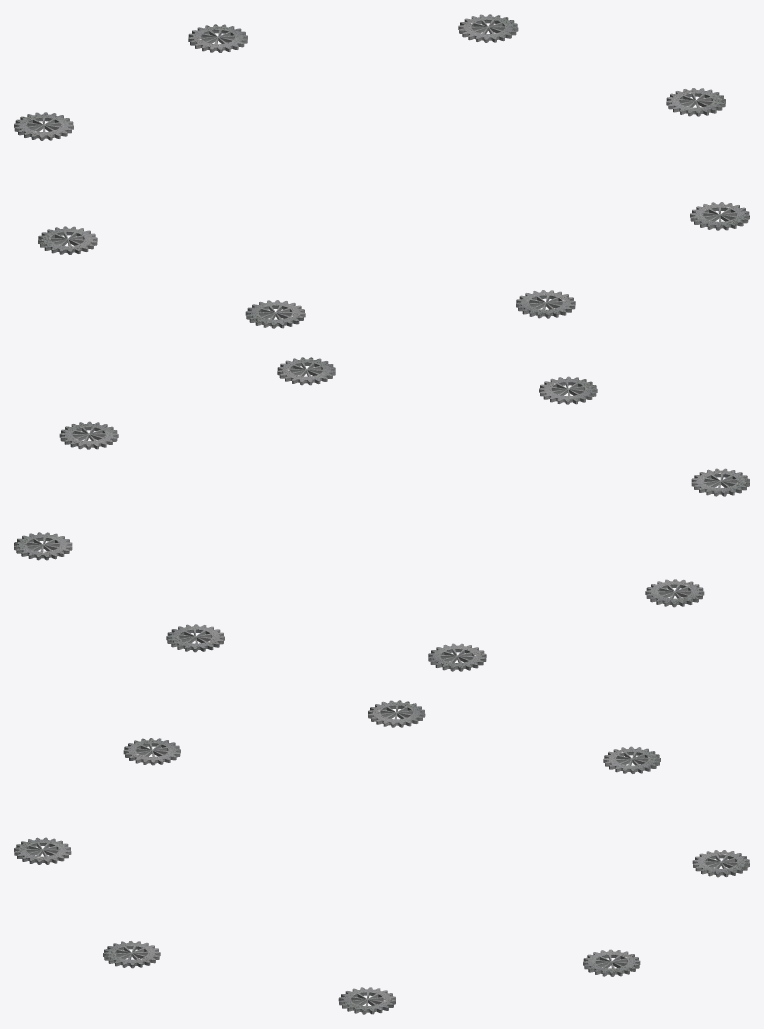
3 renders of one model, top to bottom at view 1: azimuth 30°, elevation 25°; view 2: azimuth 150°, elevation 25°; view 3: azimuth 270°, elevation 25°, orthographic. The views are drawn at different scales.
Parts seen in each view (by area): view 1: 07_HZ; view 2: 07_HZ; view 3: 07_HZ.
Boxes of the visible parts, left/top/right/bottom form: 07_HZ: left=14, top=14, right=749, bottom=328; 07_HZ: left=14, top=357, right=749, bottom=671; 07_HZ: left=14, top=700, right=749, bottom=1014.
Bounding box in the file's own units: 4225 × 20 × 4225.
